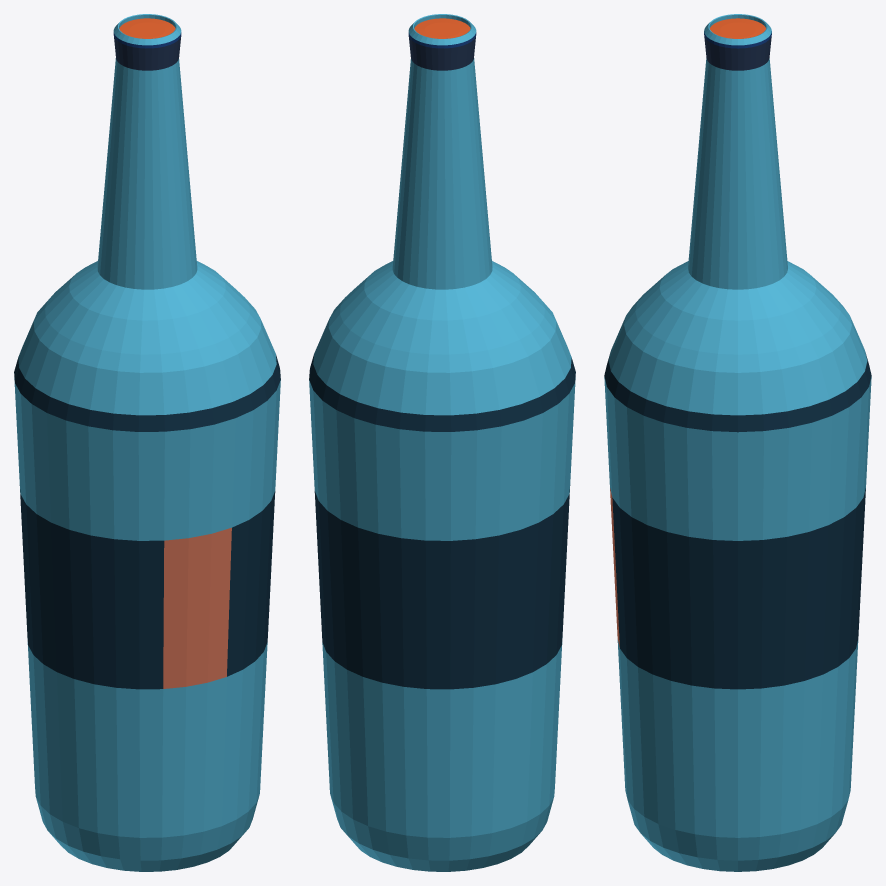
The model's file is bottle.gltf.
The picture shows the model from 3 angles, left to right: view 1: azimuth 30°, elevation 25°; view 2: azimuth 150°, elevation 25°; view 3: azimuth 270°, elevation 25°; orthographic projection.
Visible parts, largest first — view 1: Bottle; view 2: Bottle; view 3: Bottle.
Boxes of the visible parts, <box> form: Bottle: <box>14,14,280,871</box>; Bottle: <box>309,14,575,871</box>; Bottle: <box>604,14,871,871</box>.
Bounding box in the file's own units: 2 × 6.66 × 2.
1 material, 1 textured.
